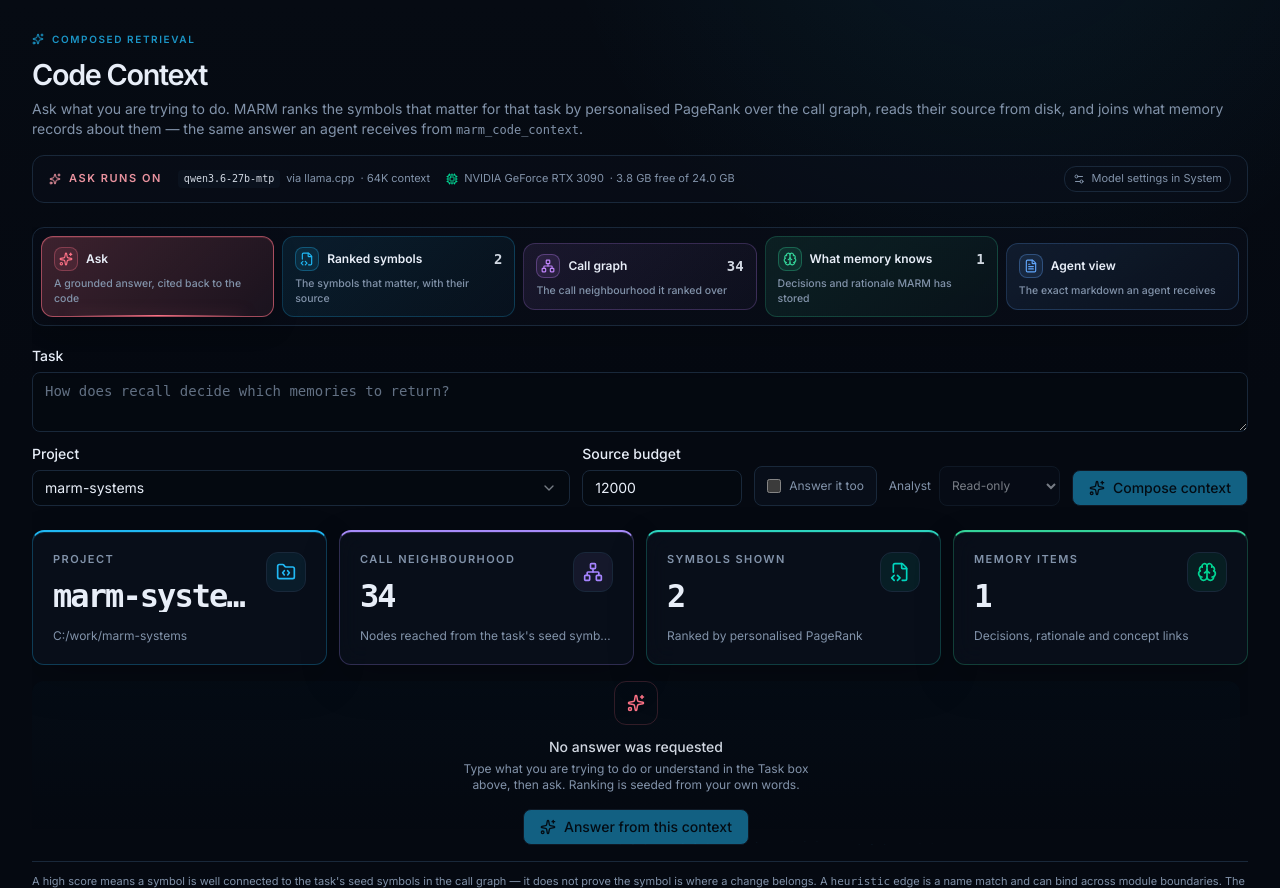
Test case: CodeContextPage › collapses a file group
The width and height of the screenshot is (1280, 888).
Click the tab "Ranked symbols 2 The symbols that matter, with their source" at coordinates (399, 277), box [282,236,515,317]
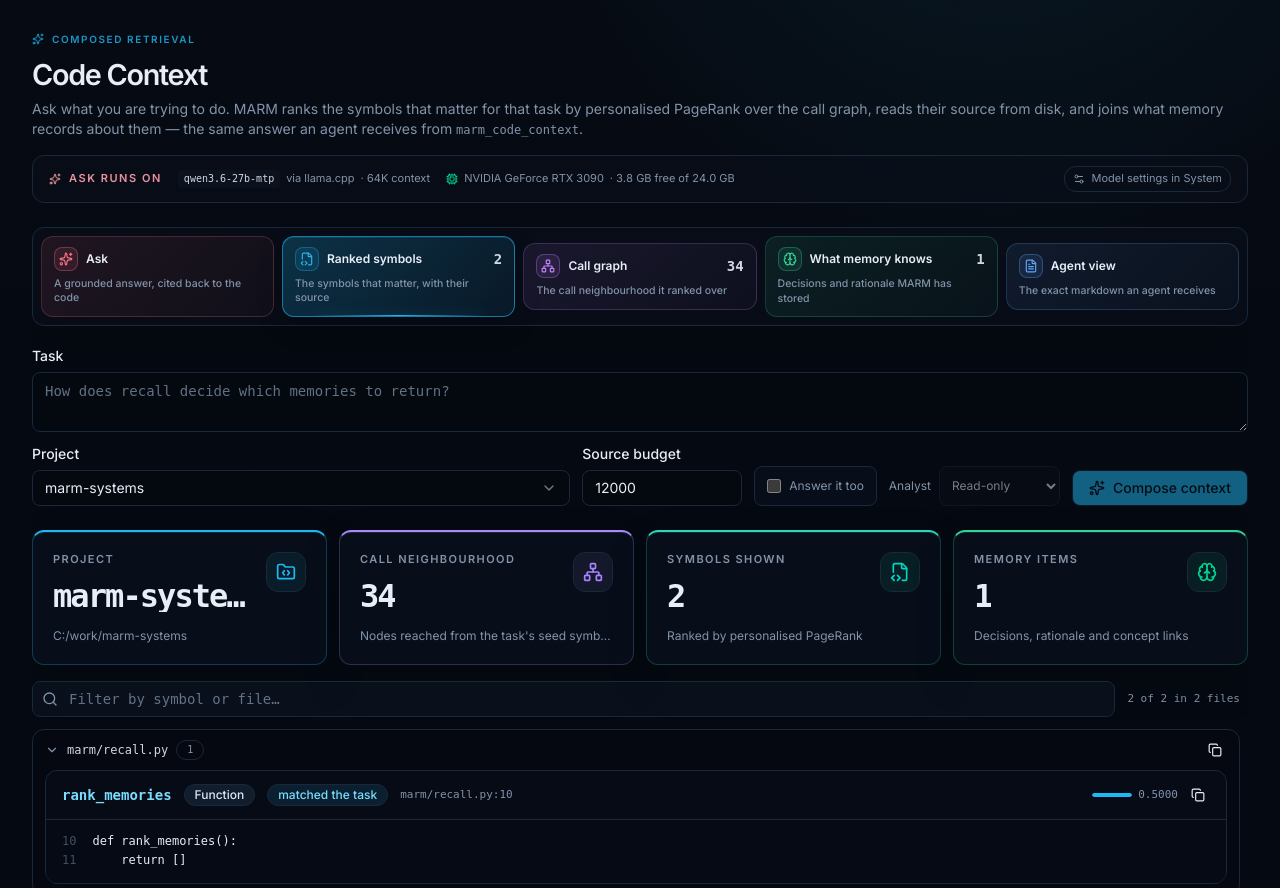
Check: the text "def rank_memories():" is shown, box [92,832,237,851]
Click the button titled "marm/recall.py" at coordinates (118, 750), box [45,740,1195,760]
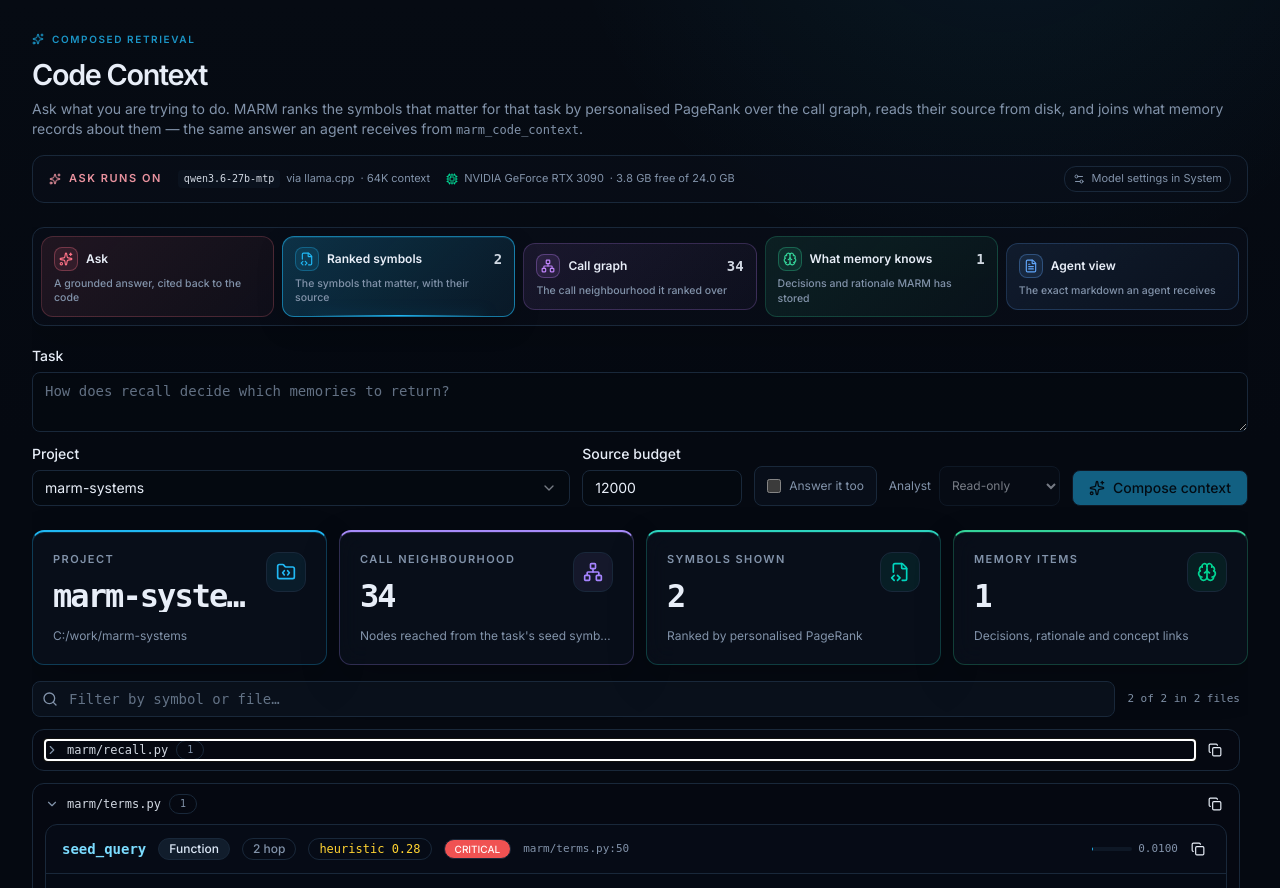
Check: the text "def rank_memories():" is gone
